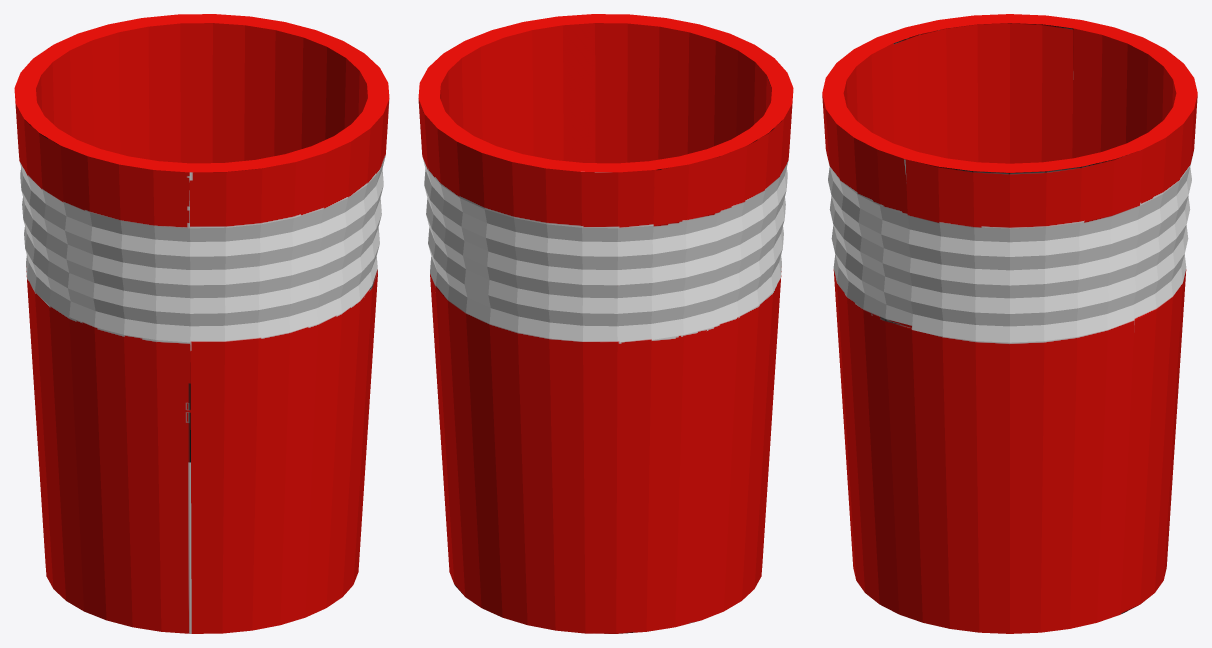
Rendered from cup.obj.
The picture shows the model from 3 angles, left to right: view 1: azimuth 30°, elevation 25°; view 2: azimuth 150°, elevation 25°; view 3: azimuth 270°, elevation 25°; orthographic projection.
Size of the model in its own units: 2.4 by 3.34 by 2.4.
